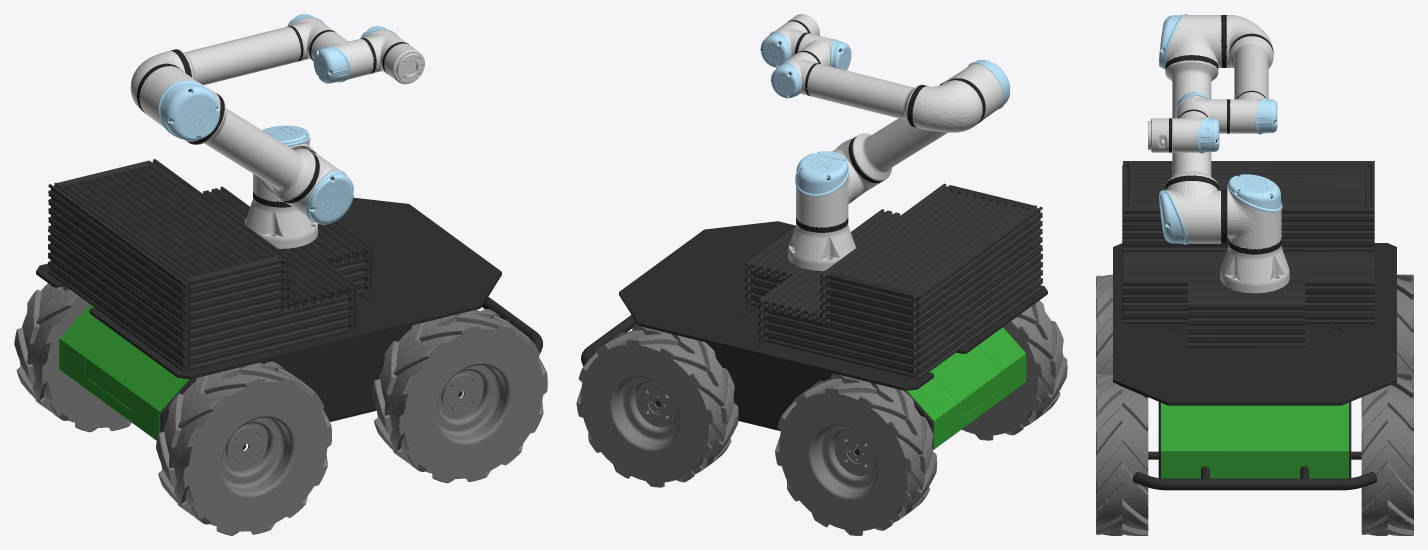
3 renders of one model, left to right at view 1: azimuth 30°, elevation 25°; view 2: azimuth 150°, elevation 25°; view 3: azimuth 270°, elevation 25°, orthographic. The views are drawn at different scales.
Parts seen in each view (by area): view 1: MMP Husky; view 2: MMP Husky; view 3: MMP Husky.
Boxes of the visible parts, x1,y1,x2,y2 form: MMP Husky: (14,14,547,535); MMP Husky: (576,14,1067,535); MMP Husky: (1096,14,1413,535).
Size of the model in its own units: 0.9305 by 0.9655 by 0.6943.
